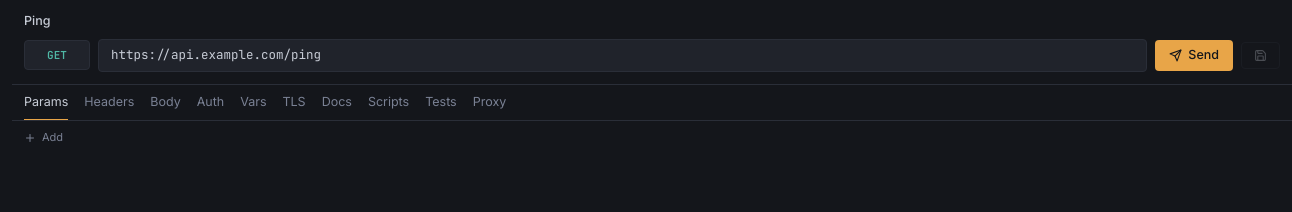
Test: RequestBuilder › selects bearer auth and shows the token field
The image size is (1292, 212).
What coordinates should you click on to do the following:
click the button "Auth"
I would click on:
 (210, 103)
Its box is [197, 84, 224, 121].
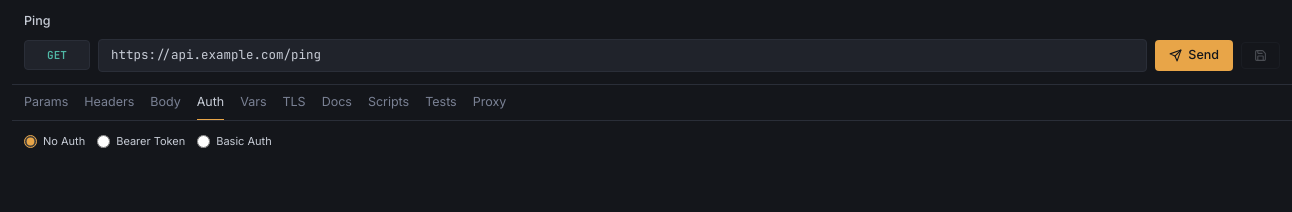
What coordinates should you click on to do the following:
click the radio button labelled "Bearer Token"
I would click on:
 (104, 142)
Its box is [97, 135, 110, 148].
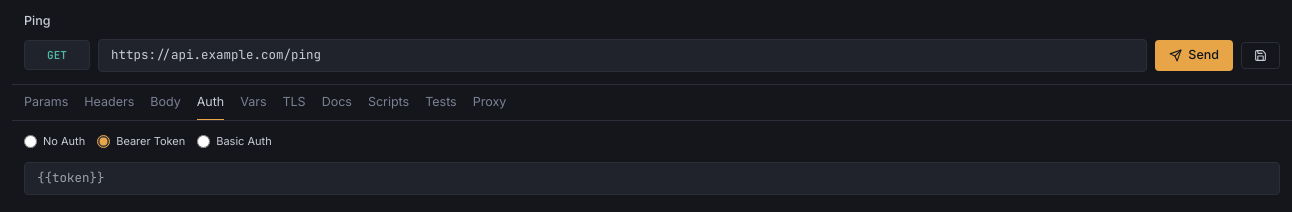
Result: the field with placeholder "{{token}}" is shown at [24, 162, 1280, 195]
